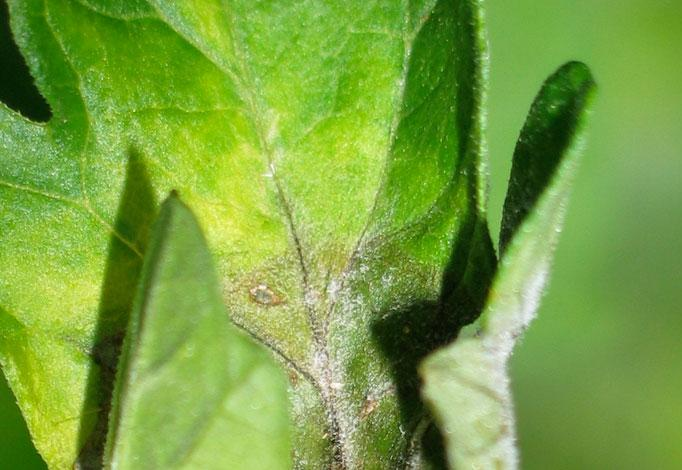Tomato leaf late blight: (0, 0, 589, 470)
